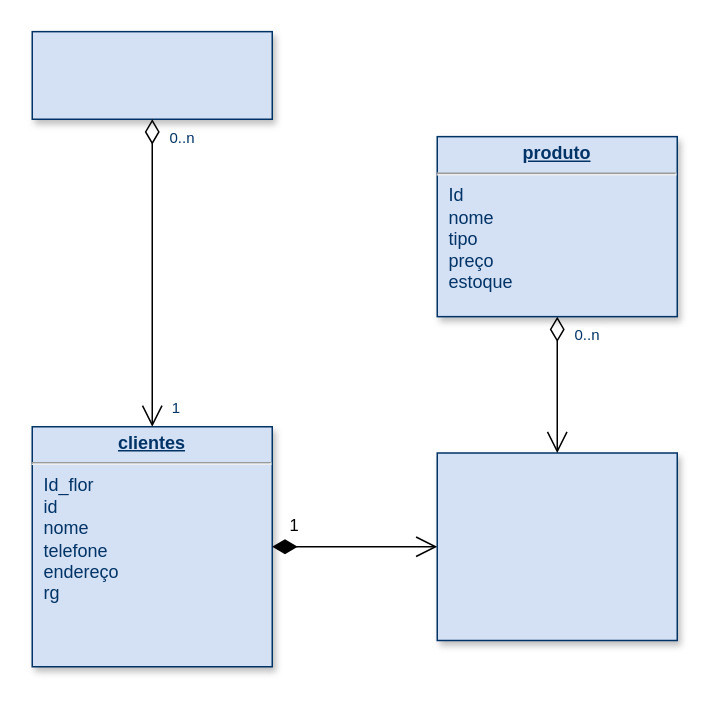
Image size: 713x705. Some labels were removed from this diagram. Here are the shapes that lost their labels. From the top down, the centre of each, then its label:
point (153, 77): flor Id
point (558, 548): armazena id_clientes id_produto
